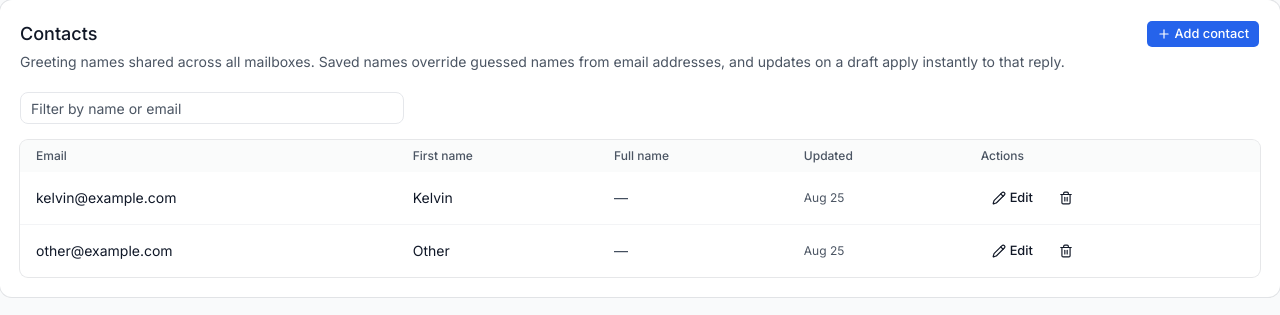
ContactsSection › filter narrows the visible rows
The width and height of the screenshot is (1280, 315).
Expected: the text "kelvin@example.com" is shown, [20,172,397,224]
Expected: the text "other@example.com" is shown, [20,224,397,277]
Type "kelvin" into the search field labelled "Filter by name or email". click: x=212, y=108
box: [20,92,404,124]
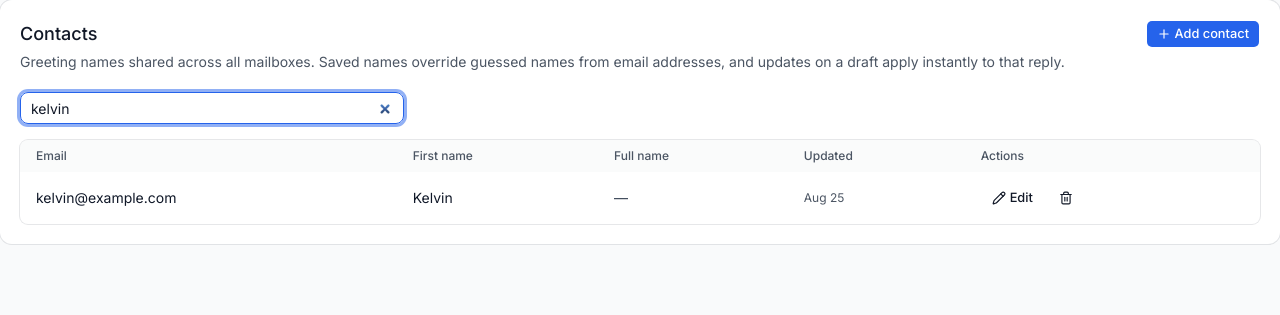
Expected: the text "kelvin@example.com" is shown, [20,172,397,224]
Expected: the text "other@example.com" is gone
